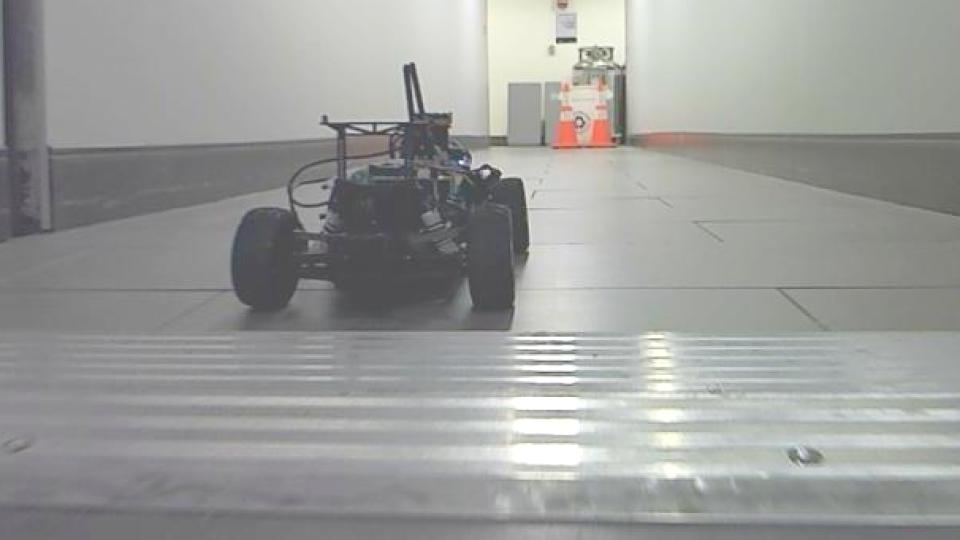car: (227, 58, 532, 318)
